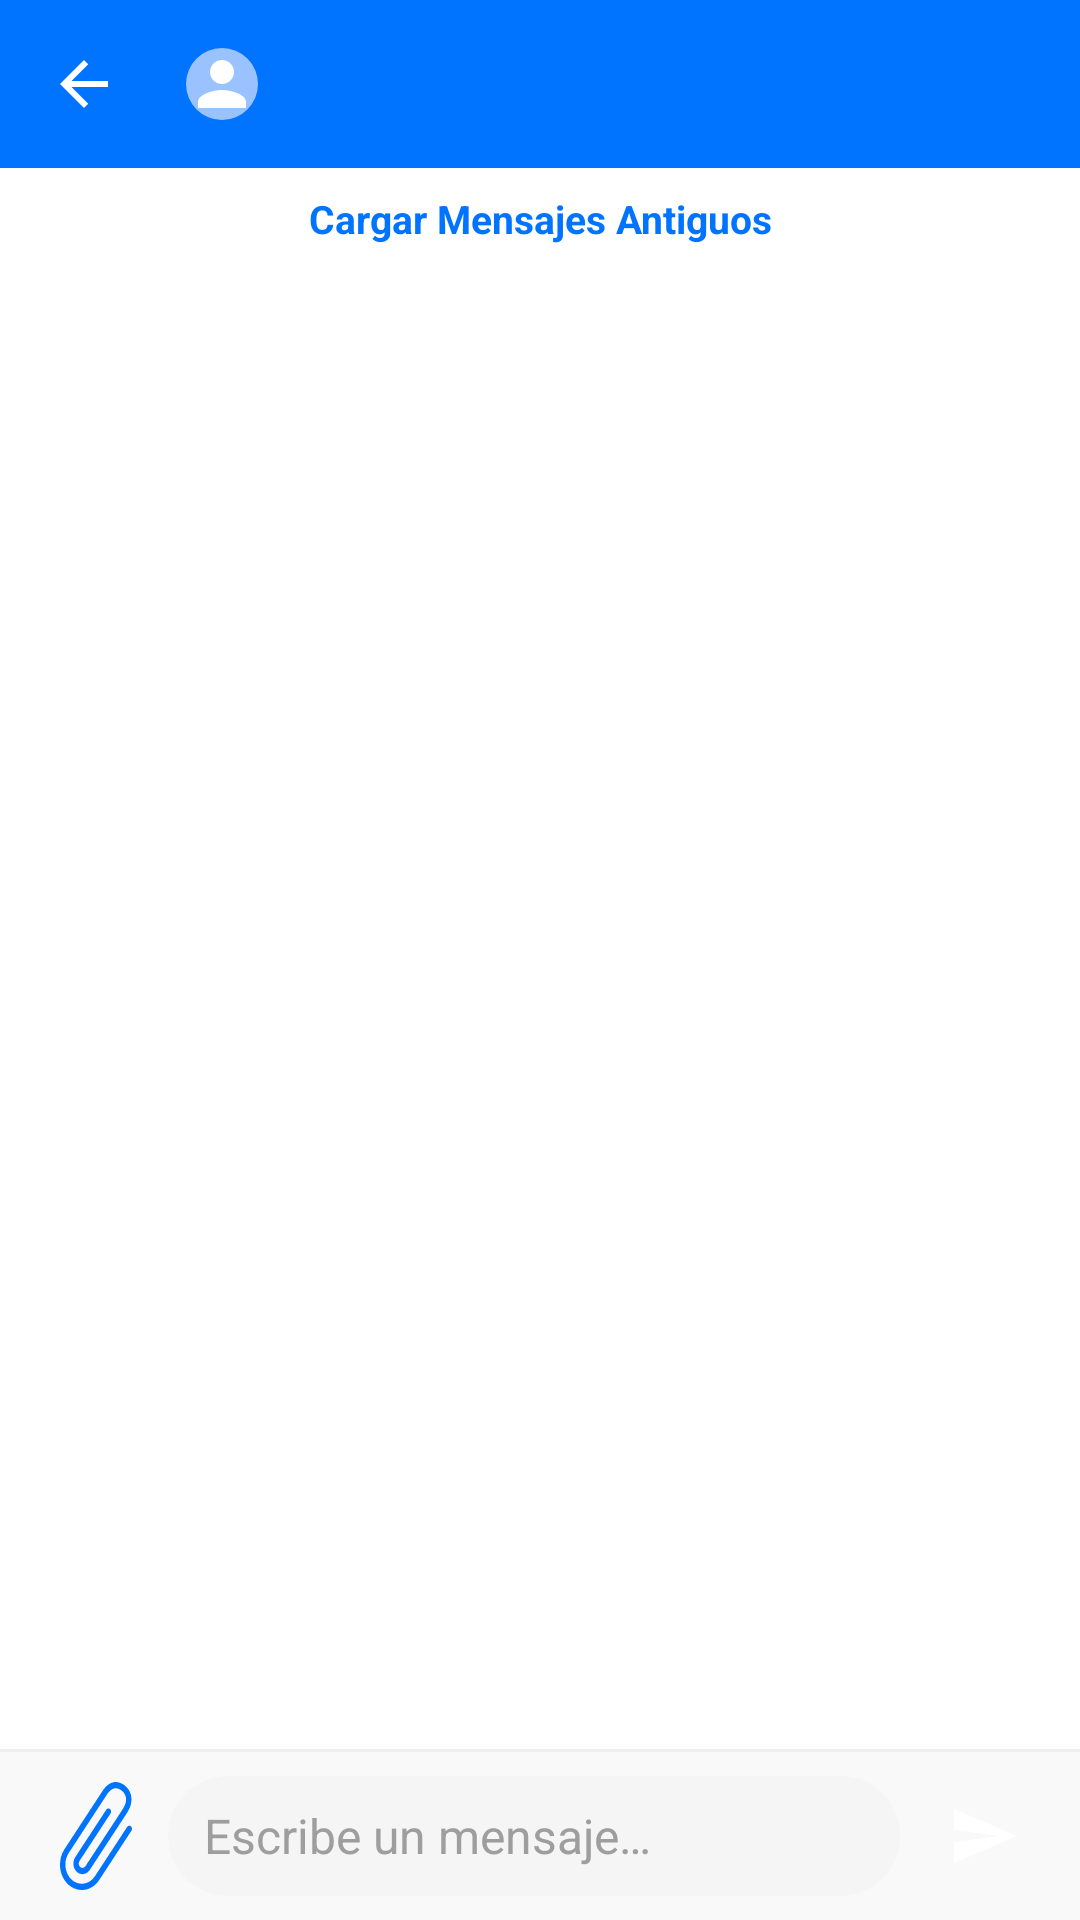

Named icons in this screenshot (1080 × 1920) and their bounding boxes, (x1, y1, x2, y2):
Adjuntar imagen: (60, 1782, 132, 1890)
person: (186, 48, 258, 120)
